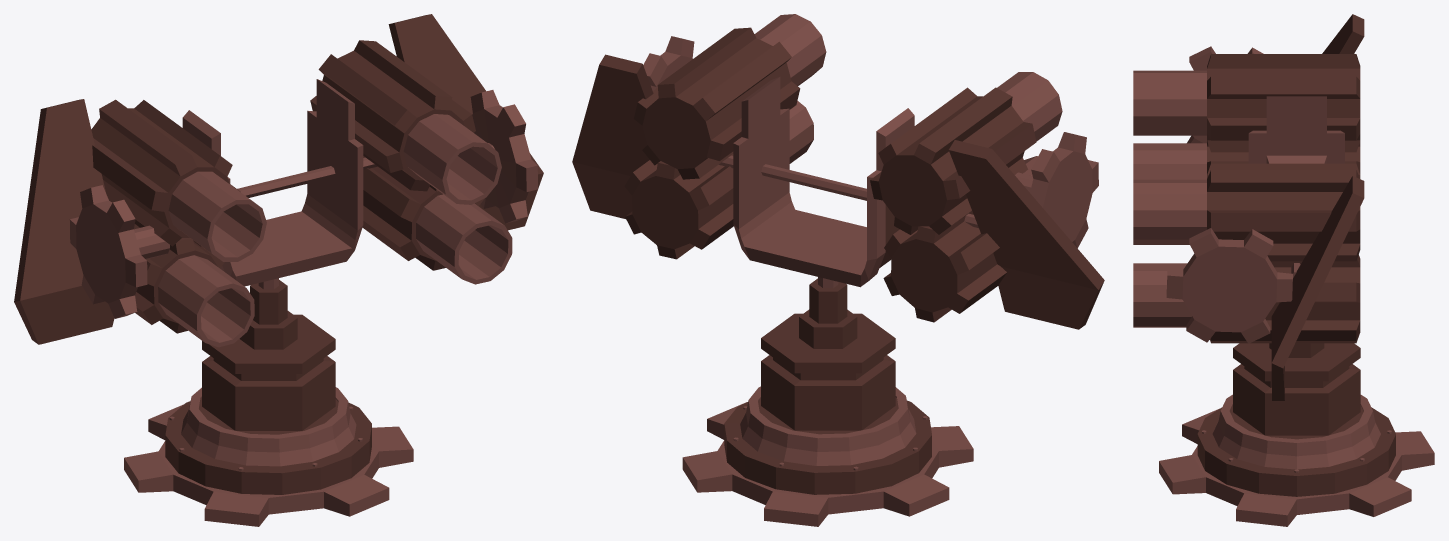
Rendered from t_Cannon_5.glb.
3 renders of one model, left to right at view 1: azimuth 30°, elevation 25°; view 2: azimuth 150°, elevation 25°; view 3: azimuth 270°, elevation 25°, orthographic. The views are drawn at different scales.
Visible parts, largest first — view 1: Cannon_5_Gun_Cylinder.121, Cannon_5_Mid_Cylinder.197, Cannon_5_Base_Cylinder.198; view 2: Cannon_5_Gun_Cylinder.121, Cannon_5_Mid_Cylinder.197, Cannon_5_Base_Cylinder.198; view 3: Cannon_5_Gun_Cylinder.121, Cannon_5_Base_Cylinder.198, Cannon_5_Mid_Cylinder.197.
Part boxes in pixels (x1,y1,x2,y2): Cannon_5_Gun_Cylinder.121: (14, 14, 543, 347); Cannon_5_Mid_Cylinder.197: (182, 79, 377, 430); Cannon_5_Base_Cylinder.198: (124, 387, 413, 526); Cannon_5_Gun_Cylinder.121: (572, 14, 1104, 329); Cannon_5_Mid_Cylinder.197: (719, 77, 978, 430); Cannon_5_Base_Cylinder.198: (682, 386, 973, 526); Cannon_5_Gun_Cylinder.121: (1133, 14, 1364, 400); Cannon_5_Base_Cylinder.198: (1159, 394, 1434, 526); Cannon_5_Mid_Cylinder.197: (1233, 96, 1360, 435).
Bounding box in the file's own units: 2.88 × 2.02 × 1.5.
